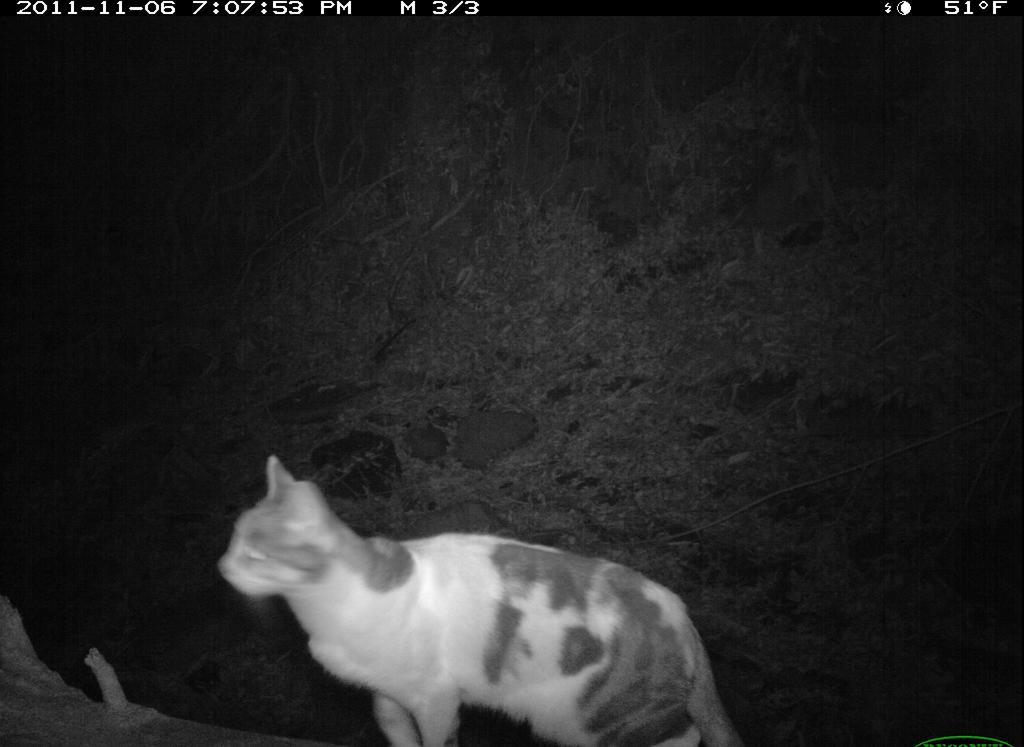cat: (212, 450, 751, 747)
